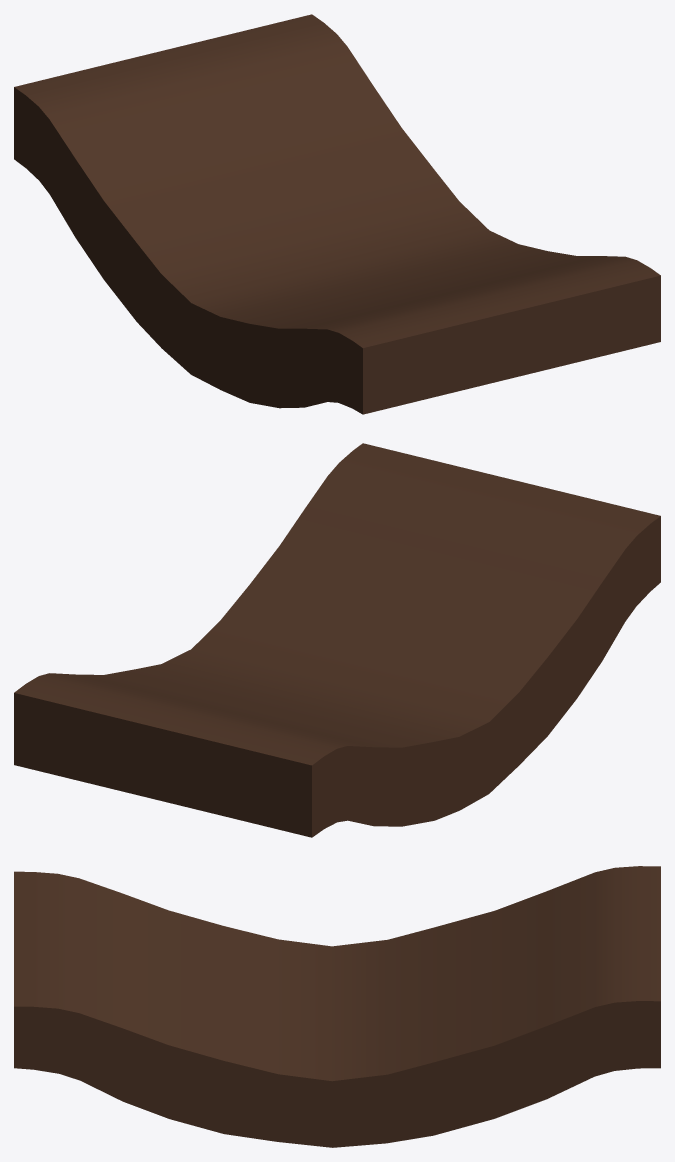
The model's file is road_2.fbx.
3 views of the same model, one above another, from view 1: azimuth 30°, elevation 25°; view 2: azimuth 150°, elevation 25°; view 3: azimuth 270°, elevation 25° (orthographic). The views are drawn at different scales.
Visible parts, largest first — view 1: road.001, road.002; view 2: road.001, road.002; view 3: road.002, road.001.
Part boxes in pixels (<box>): road.001: <box>14,50,511,414</box>; road.002: <box>163,14,660,378</box>; road.001: <box>163,479,660,837</box>; road.002: <box>14,443,511,801</box>; road.002: <box>14,933,660,1147</box>; road.001: <box>14,866,660,1013</box>.
Bounding box in the file's own units: 396 × 201 × 803.
